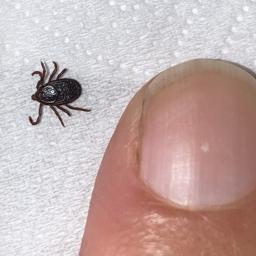Rhipicephalus sanguineus: (26, 60, 91, 127)
